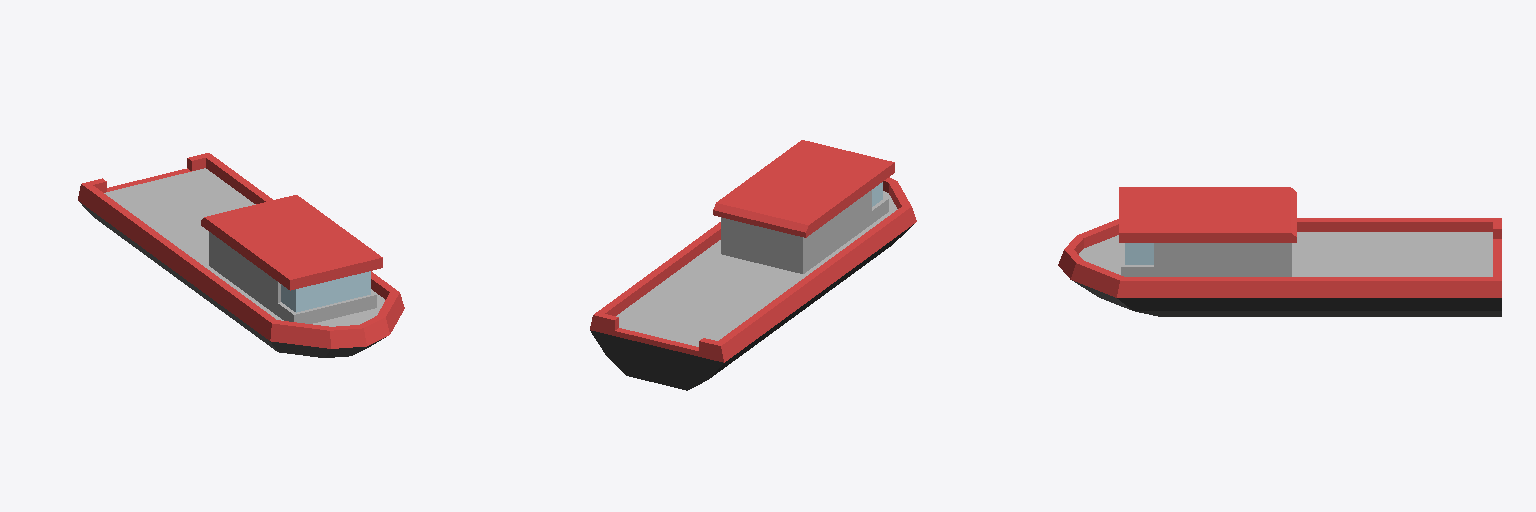
Rendered from watercraftPack_004.obj.
3 views of the same model, side by side, from view 1: azimuth 30°, elevation 25°; view 2: azimuth 150°, elevation 25°; view 3: azimuth 270°, elevation 25° (orthographic).
Parts seen in each view (by area): view 1: Mesh1 Group1 Model; view 2: Mesh1 Group1 Model; view 3: Mesh1 Group1 Model.
Boxes of the visible parts, <box> form: Mesh1 Group1 Model: <box>78,153,404,357</box>; Mesh1 Group1 Model: <box>590,140,916,390</box>; Mesh1 Group1 Model: <box>1058,187,1501,316</box>.
Bounding box in the file's own units: 3.69 × 2.41 × 10.55.